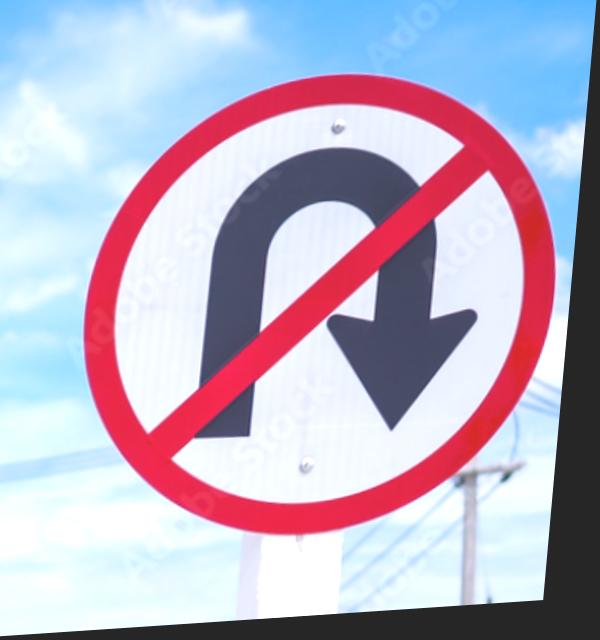not_u_turn_right: (66, 44, 582, 570)
